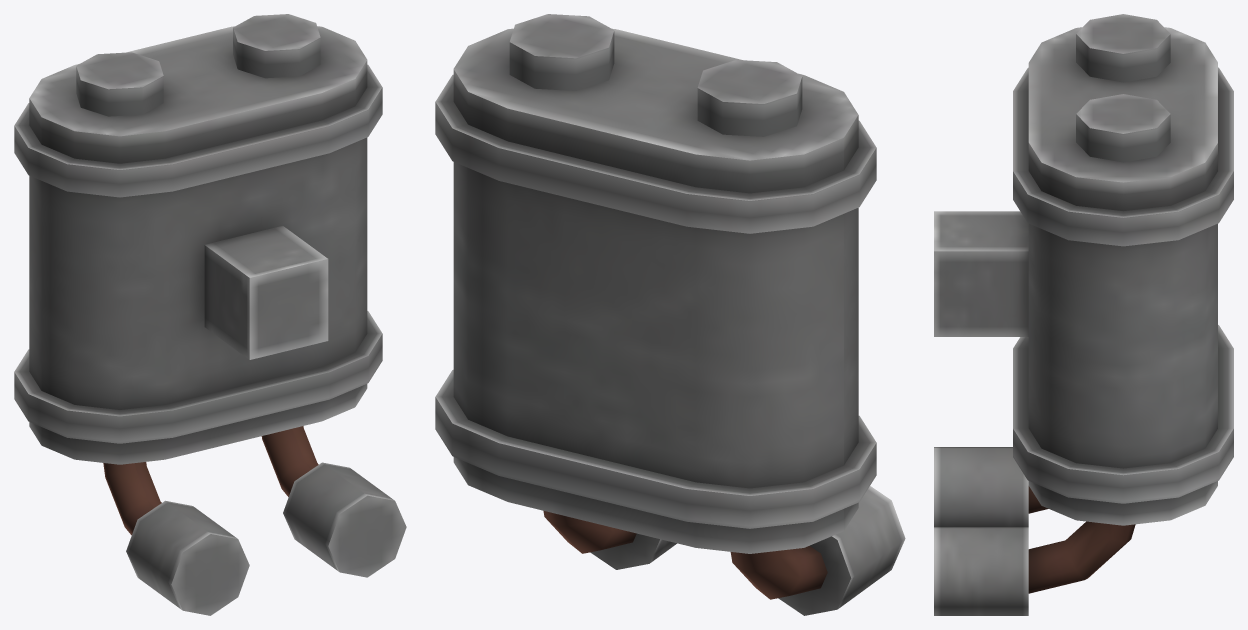
File: 4mv_battery_srf_2_compact.obj
3 renders of one model, left to right at view 1: azimuth 30°, elevation 25°; view 2: azimuth 150°, elevation 25°; view 3: azimuth 270°, elevation 25°, orthographic. The views are drawn at different scales.
Parts seen in each view (by area): view 1: mesh1; view 2: mesh1; view 3: mesh1.
Part boxes in pixels (x1,y1,x2,y2): mesh1: (14, 14, 406, 615); mesh1: (435, 14, 905, 615); mesh1: (934, 14, 1233, 615).
Bounding box in the file's own units: 0.1625 × 0.2187 × 0.1187.
1 material, 1 textured.
